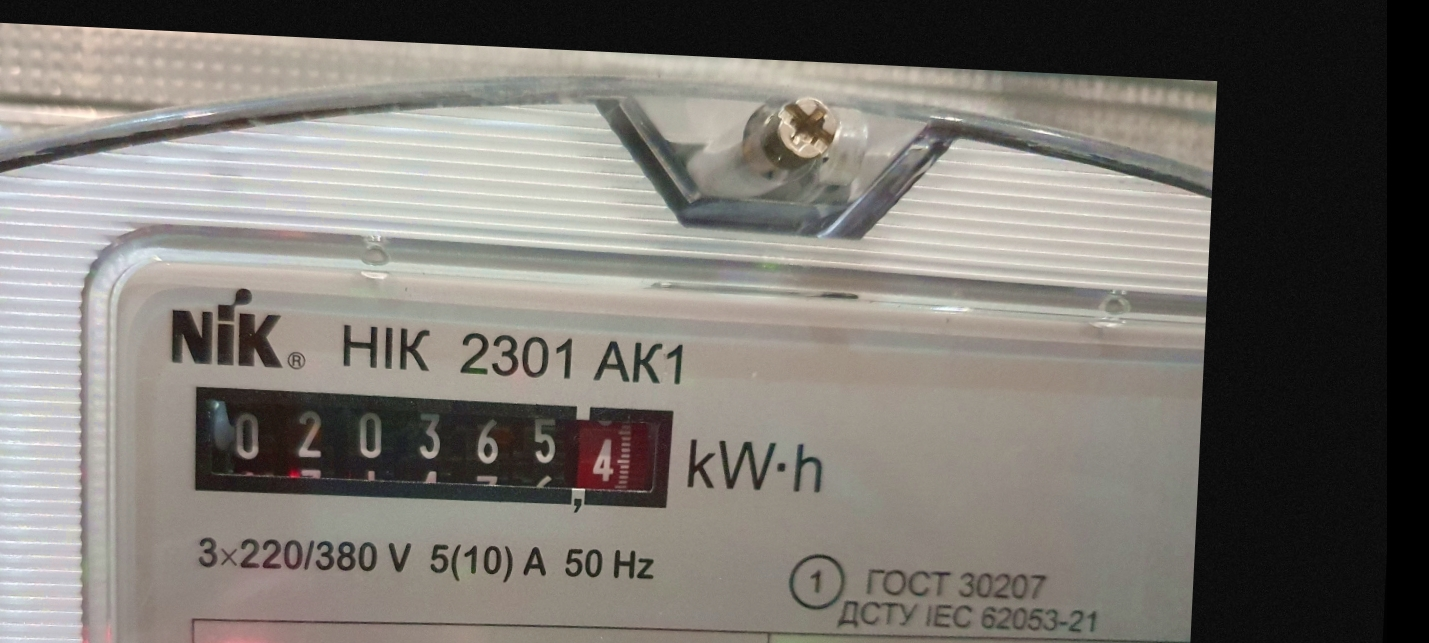0: (229, 407, 265, 463), (355, 410, 387, 461)
2: (293, 407, 326, 459)
3: (414, 411, 445, 461)
4: (590, 434, 615, 483)
5: (531, 416, 560, 464)
6: (473, 414, 501, 465)
screen: (177, 368, 690, 530)
